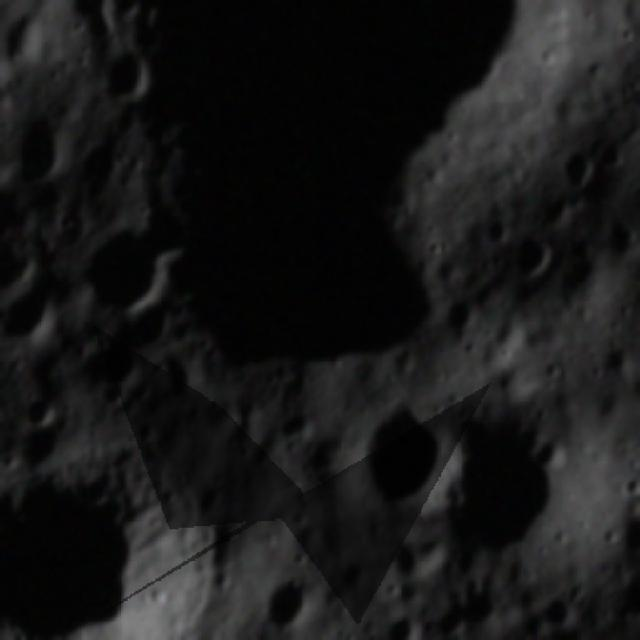crater: (124, 0, 551, 383), (0, 458, 226, 640), (435, 412, 574, 556), (360, 395, 458, 527), (73, 228, 173, 315), (16, 106, 86, 185), (0, 286, 68, 354), (262, 572, 324, 640), (121, 293, 190, 350), (137, 197, 197, 261), (84, 332, 151, 388), (462, 580, 522, 640), (100, 44, 158, 104), (510, 225, 561, 286), (0, 12, 49, 68), (63, 0, 119, 45), (0, 238, 40, 300), (27, 422, 76, 470), (78, 139, 125, 186), (558, 146, 598, 194), (534, 429, 571, 476), (385, 538, 426, 580), (606, 216, 640, 264), (269, 407, 317, 441), (612, 570, 640, 627), (381, 606, 424, 640), (22, 392, 60, 428), (597, 135, 632, 173), (541, 594, 576, 632), (445, 297, 480, 335), (602, 342, 635, 380), (487, 208, 516, 247), (569, 228, 597, 266), (421, 231, 452, 263), (620, 517, 640, 561), (615, 473, 640, 504), (250, 447, 276, 471)
